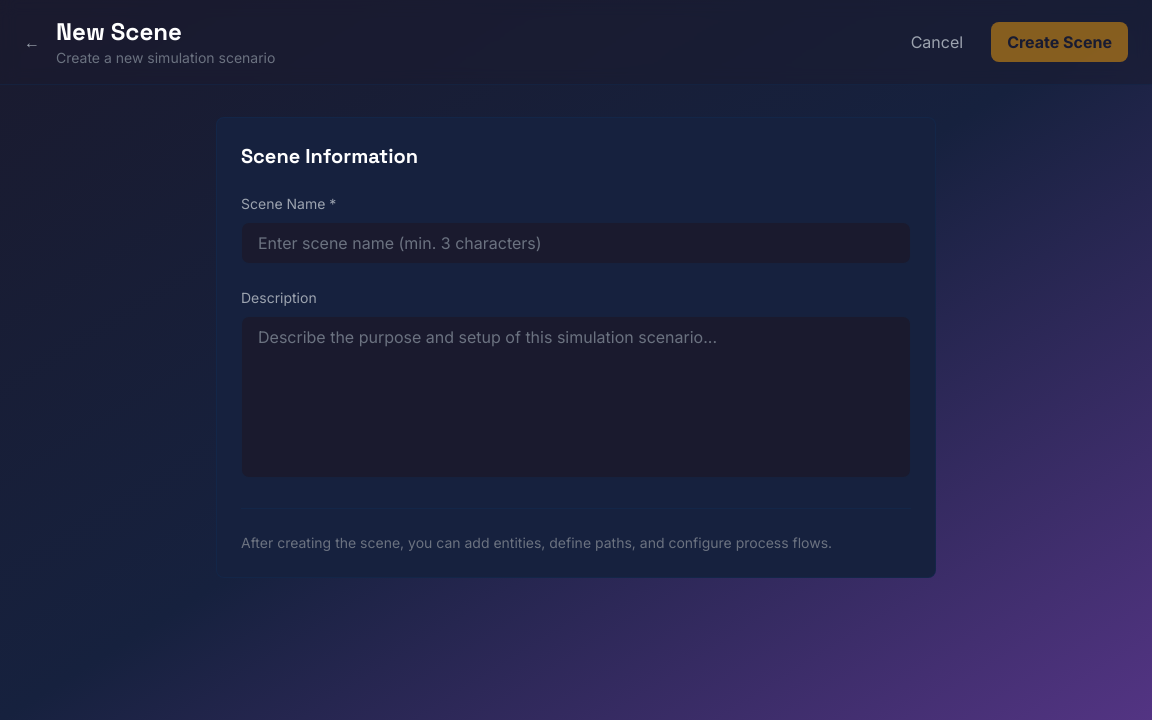
SceneCreatePage › shouldUseI18nValidationMessage
Type "a" into the field with placeholder "Enter scene name (min. 3 characters)" at (576, 243), box [241, 222, 911, 264]
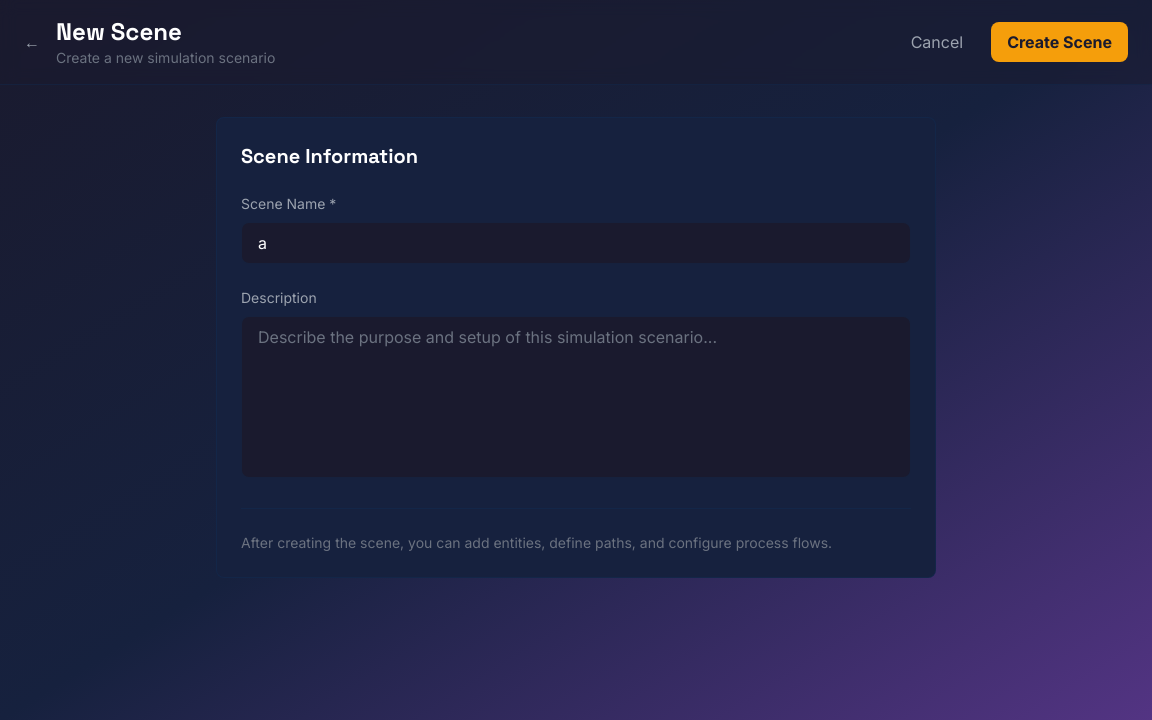
Click the button "Create Scene" at (1060, 42), box [991, 22, 1128, 62]
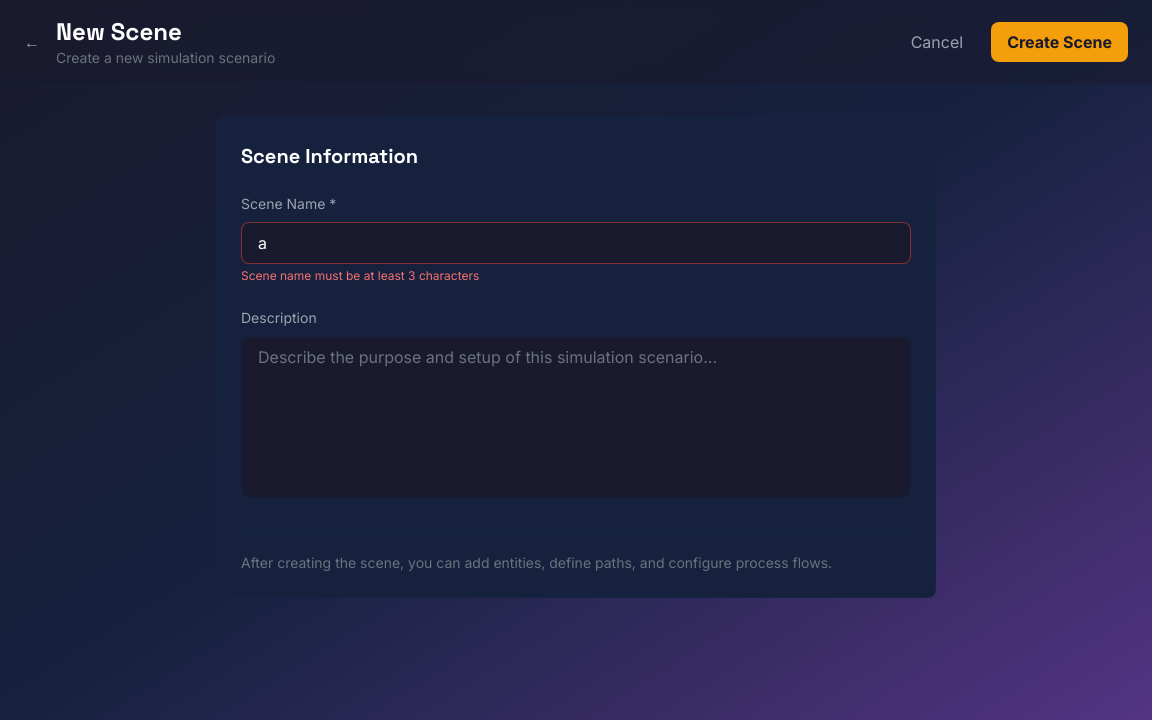
expect the text "Scene name must be at least 3 characters" is shown: met, box [241, 268, 479, 283]
